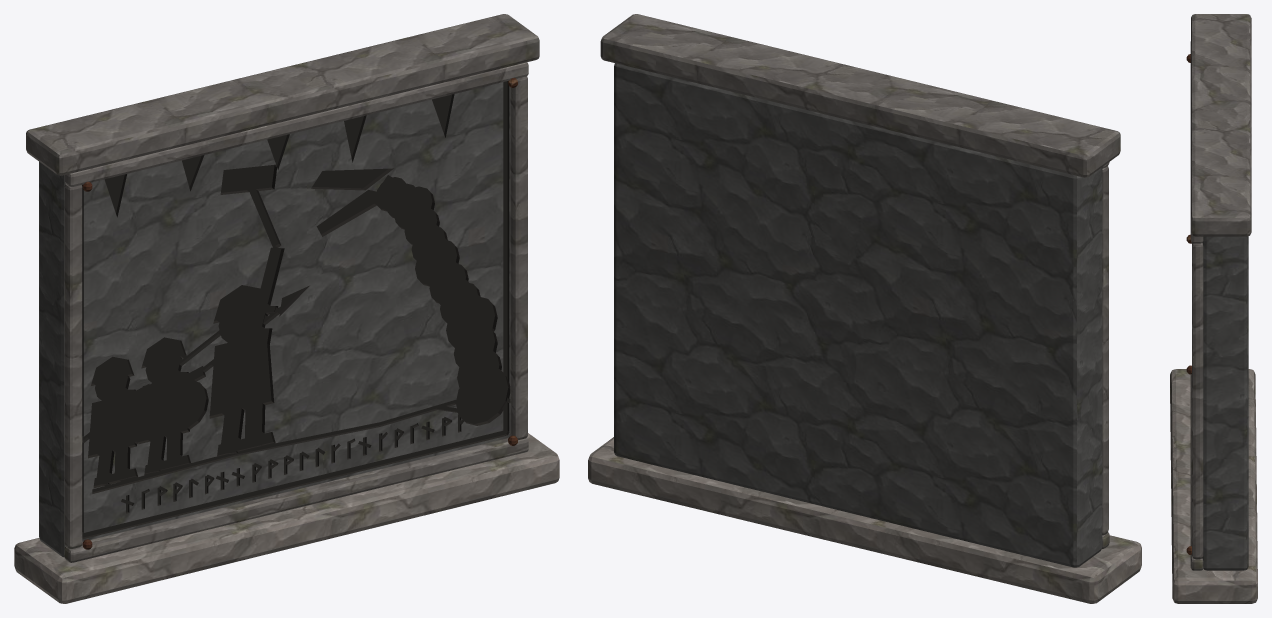
Rendered from th_relief_battle.glb.
3 views of the same model, side by side, from view 1: azimuth 30°, elevation 25°; view 2: azimuth 150°, elevation 25°; view 3: azimuth 270°, elevation 25° (orthographic). The views are drawn at different scales.
Parts seen in each view (by area): view 1: model; view 2: model; view 3: model.
Part boxes in pixels (box(x1,y1,x2,y2)): model: box(14, 14, 559, 603); model: box(588, 14, 1141, 603); model: box(1170, 14, 1257, 603).
Size of the model in its own units: 1.75 by 1.47 by 0.3047.
Materials: 5 (4 with a texture image).
